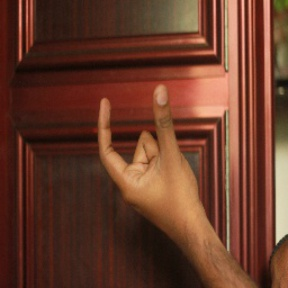U: (93, 79, 193, 211)
